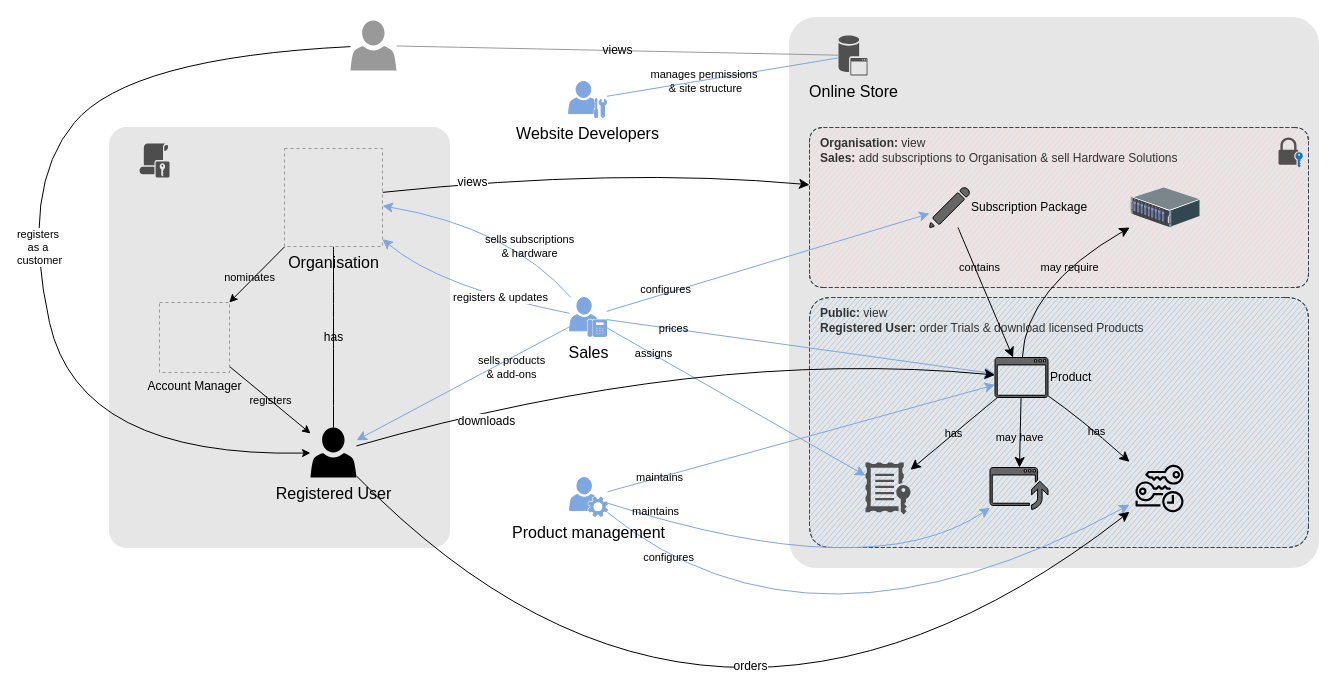
Image size: 1336x691. Some labels were removed from this diagram. Grey dashed boxes stand in for pictures. Here are the shapes that lost their labels. From the top down, the centre of each, then its label:
At point (373, 45): "Public".
At point (154, 160): "Customer Roles".
At point (1164, 207): "Hardware Solution".
At point (887, 488): "license".
At point (1018, 488): "Add-on".
At point (1159, 488): "Trial".
